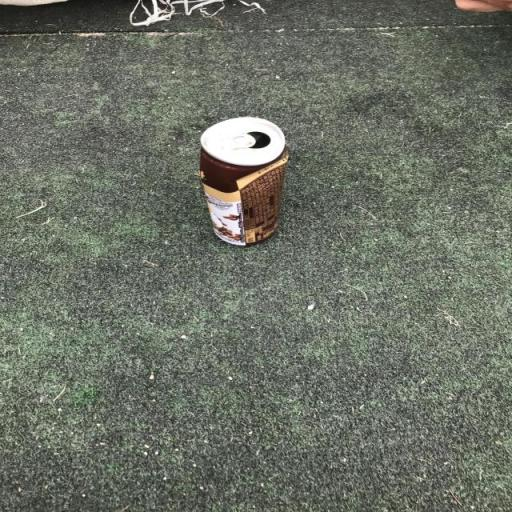metal: (174, 83, 310, 258)
